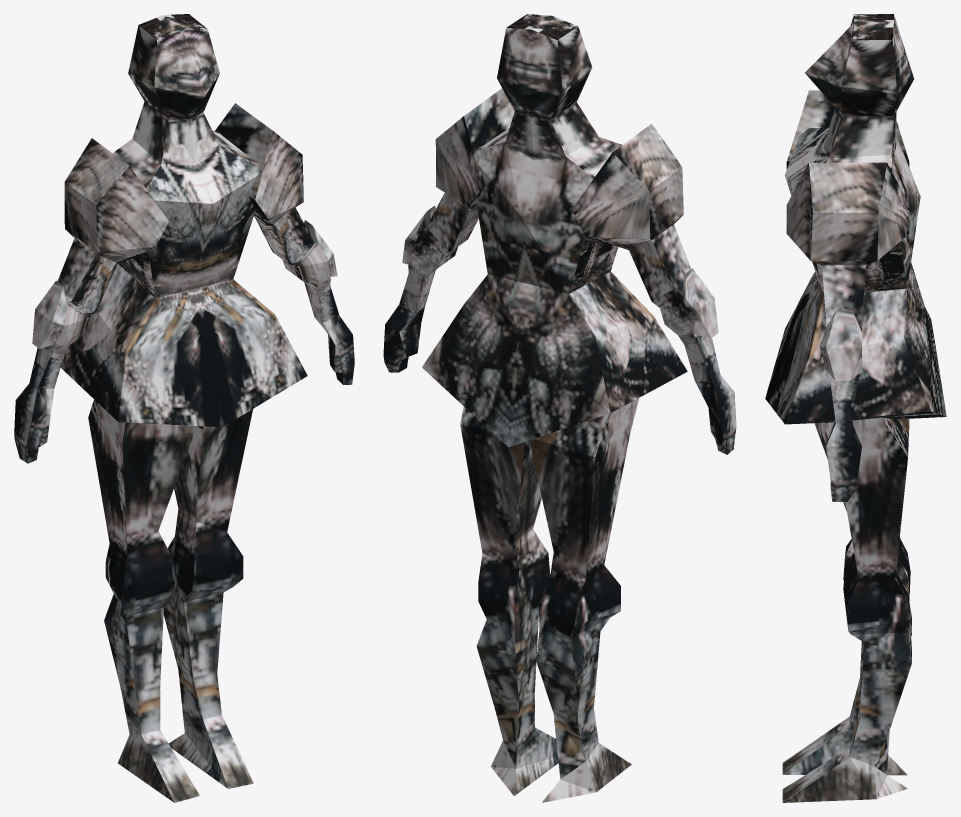
The model's file is knight.obj.
3 renders of one model, left to right at view 1: azimuth 30°, elevation 25°; view 2: azimuth 150°, elevation 25°; view 3: azimuth 270°, elevation 25°, orthographic. The views are drawn at different scales.
Parts seen in each view (by area): view 1: Knight; view 2: Knight; view 3: Knight.
Boxes of the visible parts, <box> form: Knight: <box>14,14,354,802</box>; Knight: <box>383,14,736,802</box>; Knight: <box>765,14,946,802</box>.
Bounding box in the file's own units: 69.81 × 150 × 32.43.
Materials: 1 (1 with a texture image).
